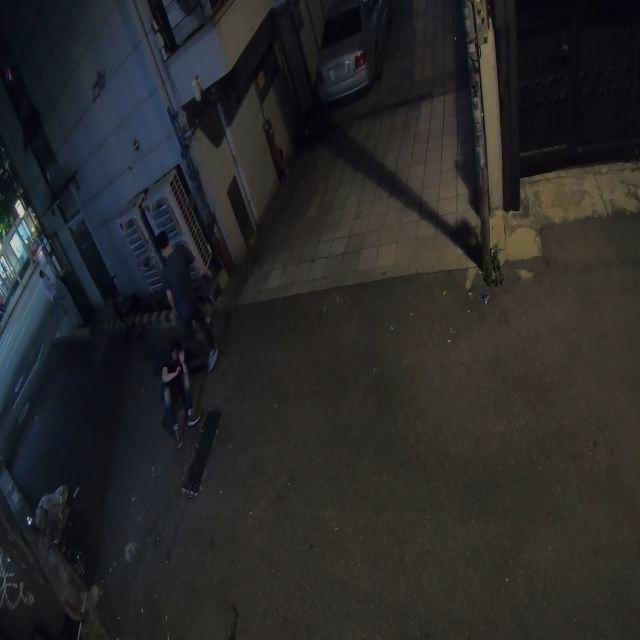fight: (153, 231, 221, 446)
